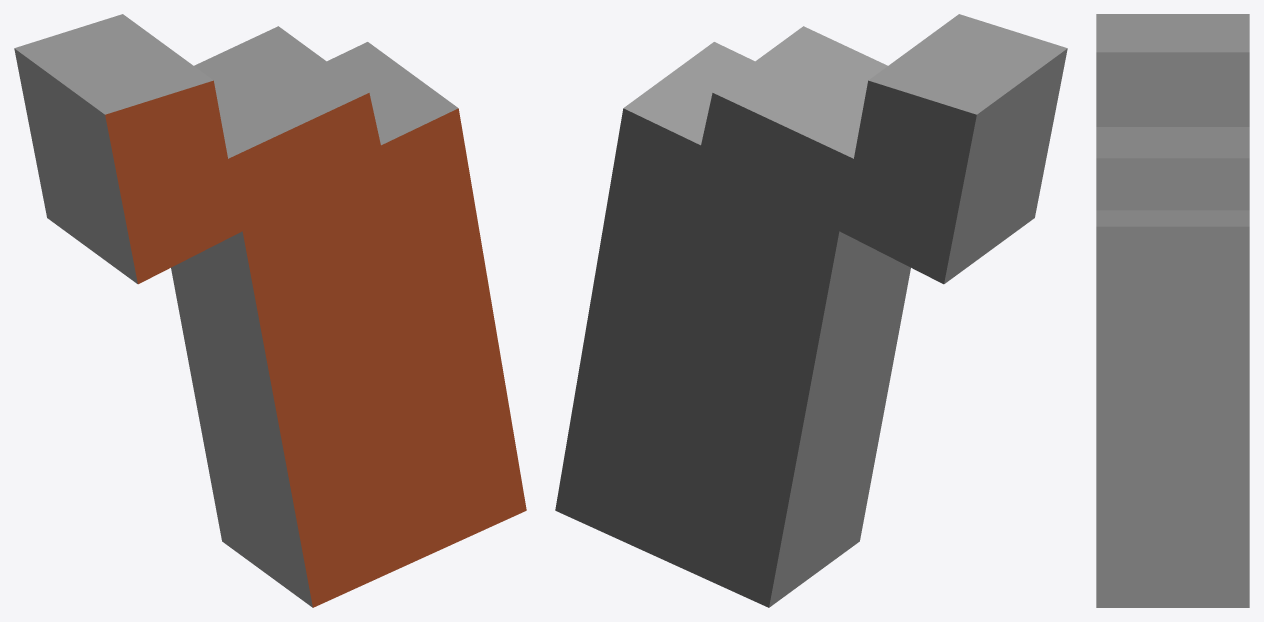
File: construction_4957_assumed_A_Casa_h6m.obj
3 renders of one model, left to right at view 1: azimuth 30°, elevation 25°; view 2: azimuth 150°, elevation 25°; view 3: azimuth 270°, elevation 25°, orthographic. The views are drawn at different scales.
Visible parts, largest first — view 1: construction_4957_assumed_A_Casa; view 2: construction_4957_assumed_A_Casa; view 3: construction_4957_assumed_A_Casa.
Part boxes in pixels (x1=…): construction_4957_assumed_A_Casa: x1=14, y1=14, x2=526, y2=607; construction_4957_assumed_A_Casa: x1=555, y1=14, x2=1067, y2=607; construction_4957_assumed_A_Casa: x1=1096, y1=14, x2=1249, y2=607.
Size of the model in its own units: 16.07 by 20.09 by 6.
